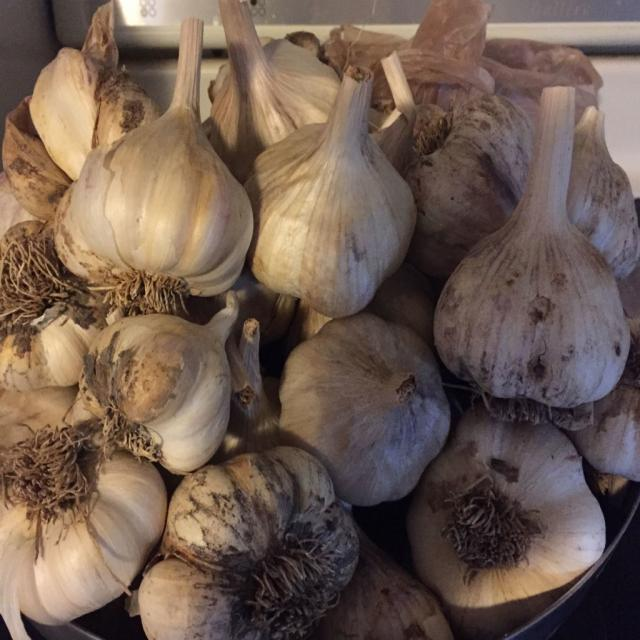garlic: (432, 199, 630, 402), (434, 416, 596, 624), (82, 103, 250, 299), (254, 114, 415, 316), (0, 457, 149, 632), (295, 314, 436, 480), (87, 311, 231, 460)
